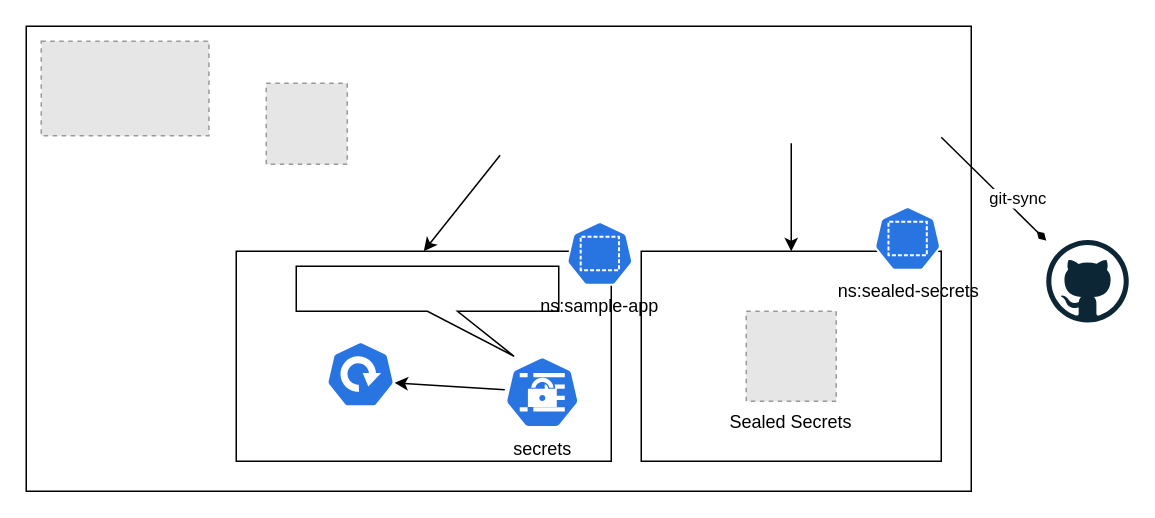
This 1155x518 diagram has some shape labels left out. Grey dashed boxes stand in for pictures. Each missing label, with the centre of its shape:
"Deployment" goes at point (360, 373).
"Sealed Secretsでencryptした secret" goes at point (427, 310).
